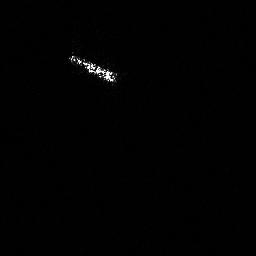ship: (65, 51, 123, 85)
